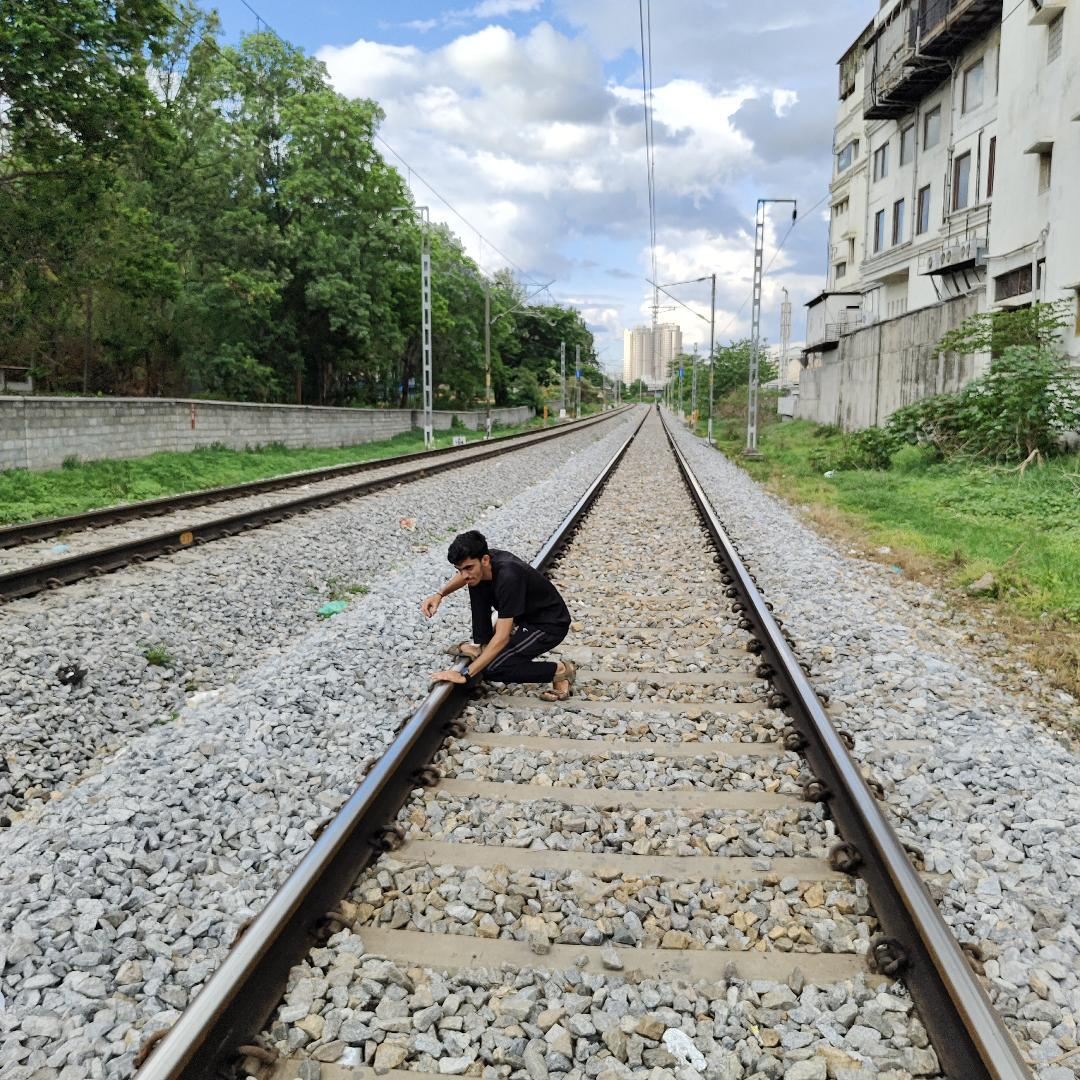sitting: (420, 520, 582, 719)
